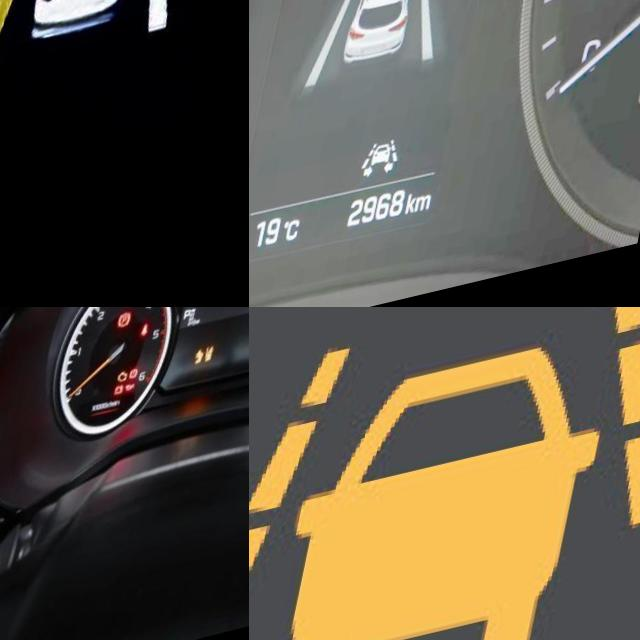Seat Belt: (153, 334, 162, 347)
